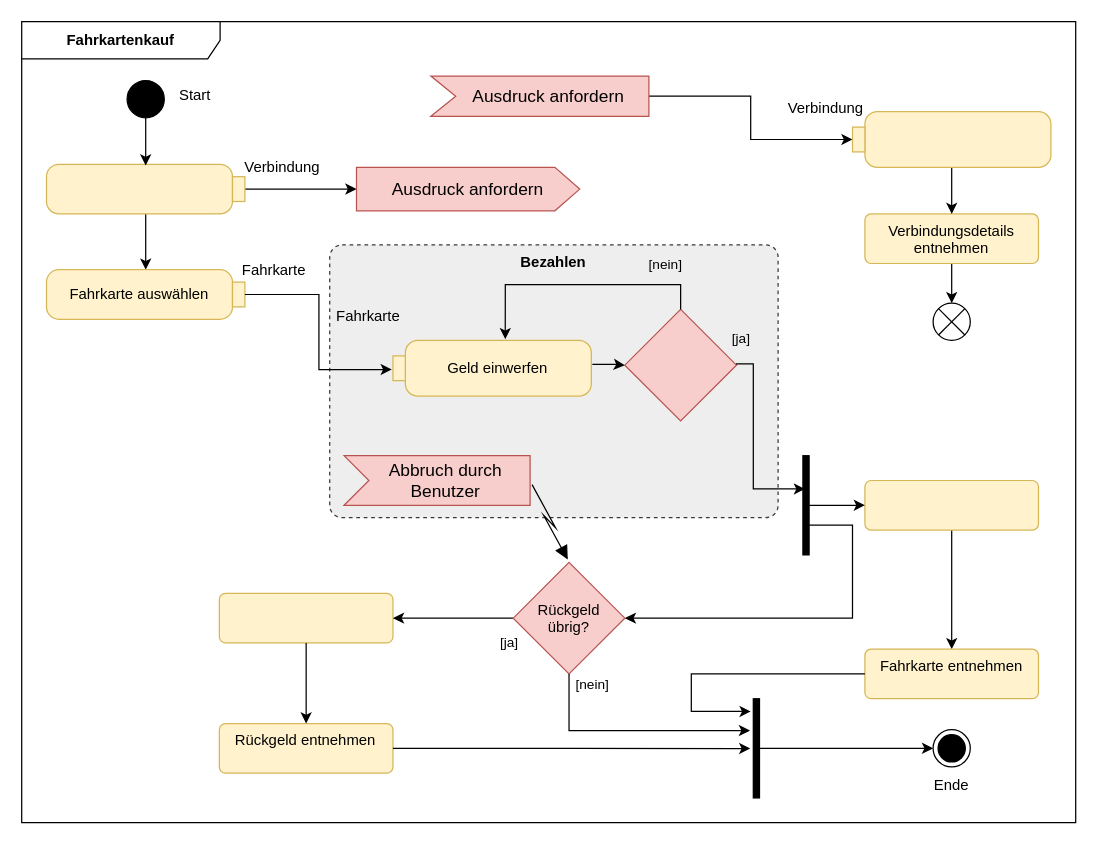
Image size: 1097x844. Some labels were removed from this diagram. Here are the shapes that lost their labels. From the top down, the centre of each, then its label:
At pixel 951 138: "Verbindungsdetails ausdrucken".
At pixel 145 188: "Verbindung suchen und auswählen".
At pixel 680 364: "genug Geld einge- worfen?".
At pixel 951 504: "Fahrkarte drucken".
At pixel 305 617: "Rückgeld auswerfen".
